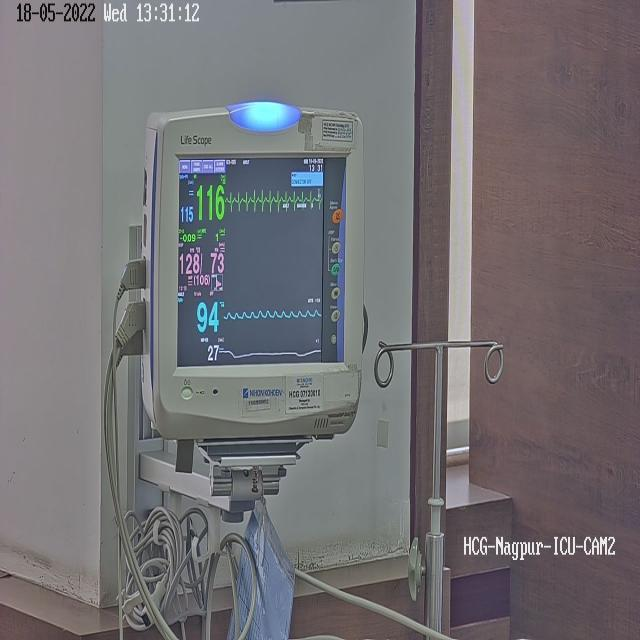Monitor: (140, 100, 360, 576)
Saline Stand: (369, 287, 518, 640)
